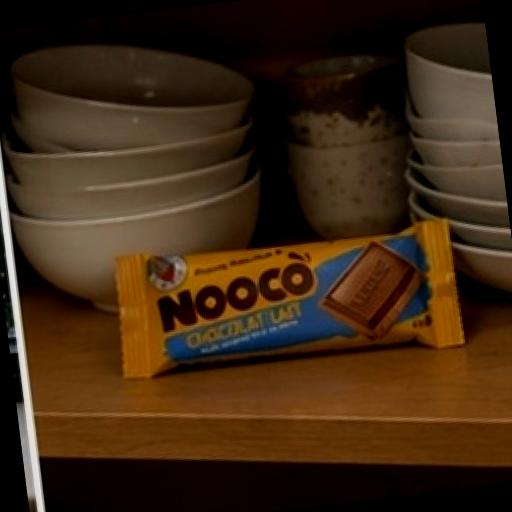biscuit-detection: (67, 162, 512, 451)
